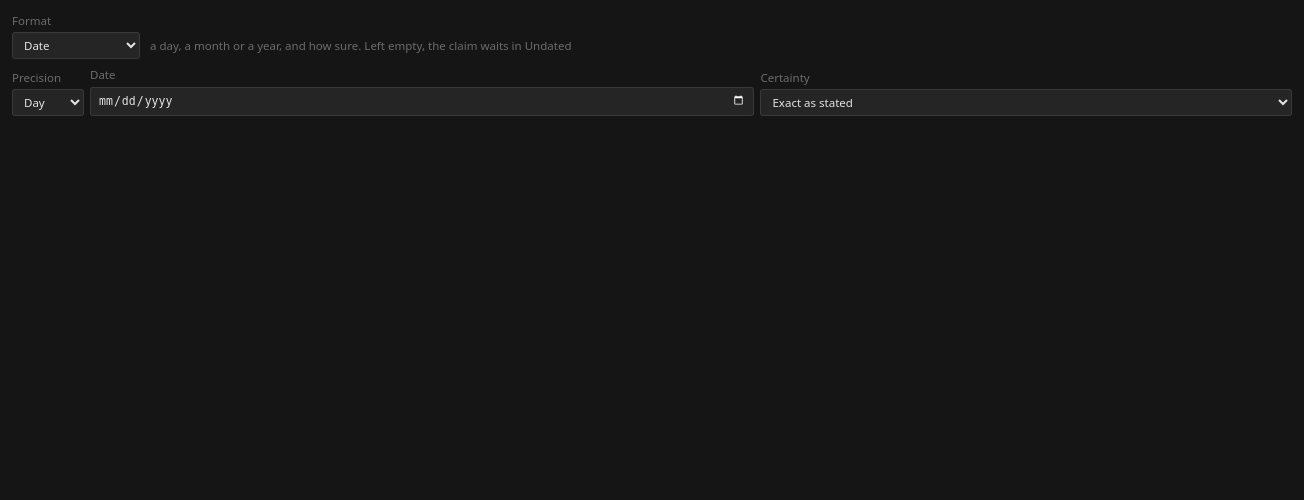
the day a date is › gives a day any zone in the world, with no place tied to it
Type "2026-09-10" into the date field with class "date-value" at [422, 101], box [90, 86, 754, 116]
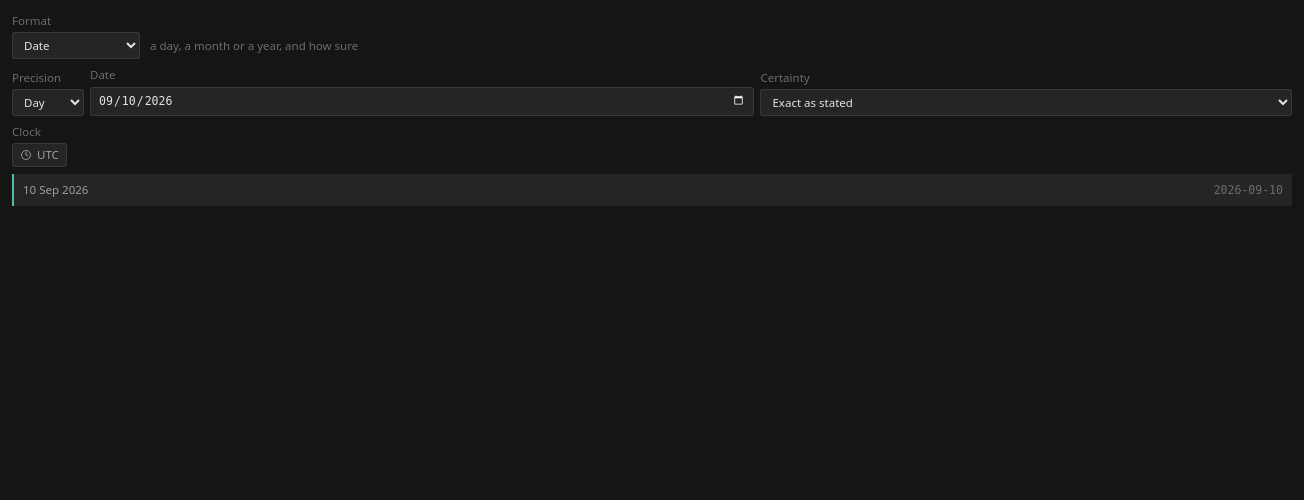
Click the button with class "clock-trigger" at [39, 155], box [12, 143, 67, 167]
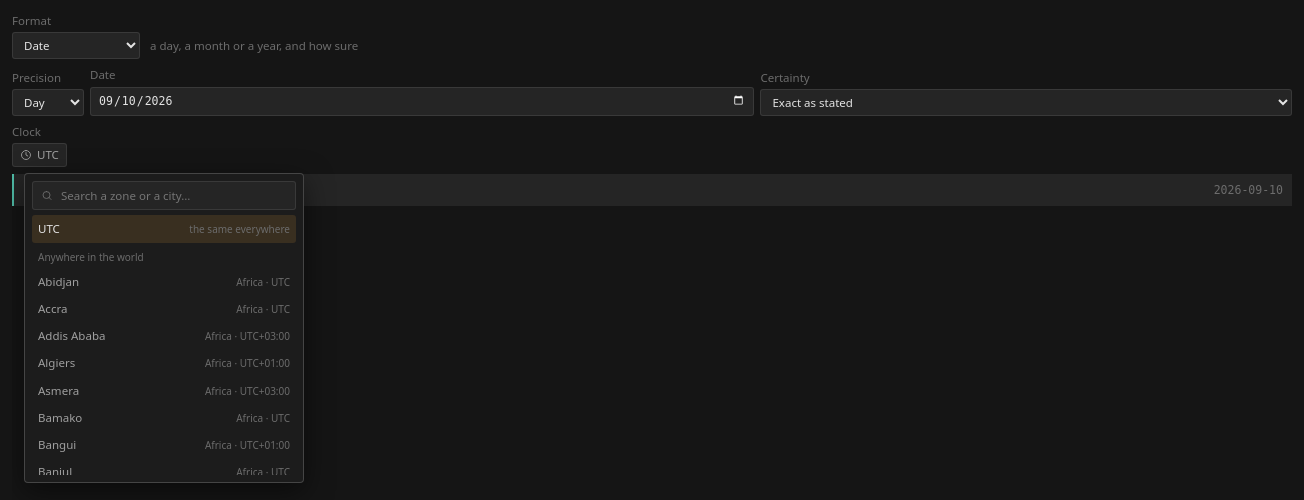
Type "tokyo" into the field with class "search-input" at [173, 196], box [59, 186, 287, 205]
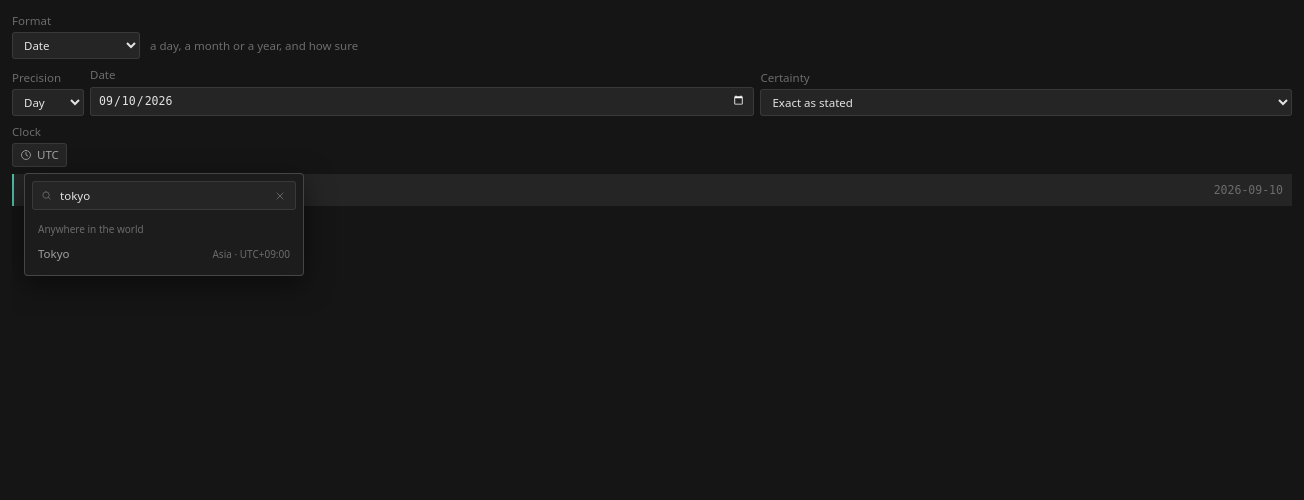
Click the button "Tokyo Asia · UTC+09:00" at [54, 254], box [32, 240, 296, 268]
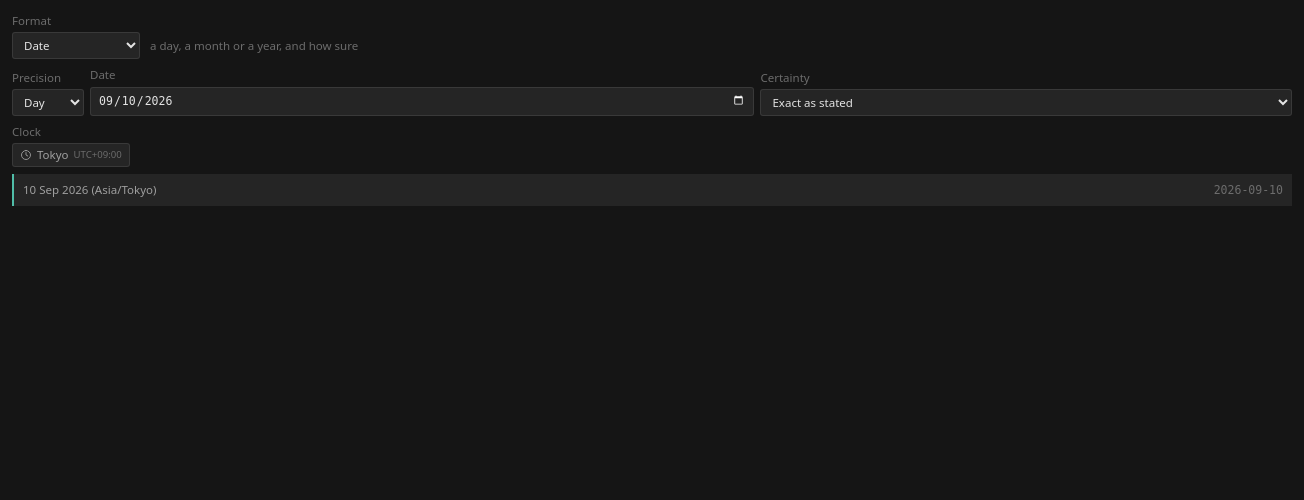
Result: the text "10 Sep 2026 (Asia/Tokyo)" is shown at [23, 181, 156, 198]
